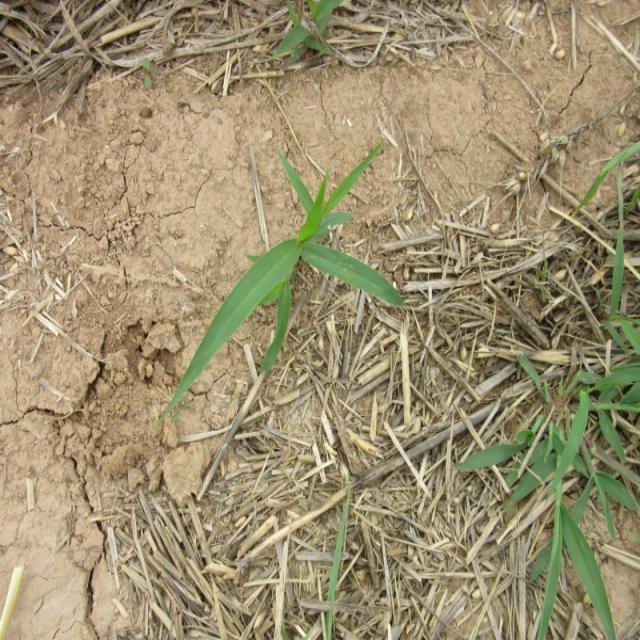bg: (166, 138, 403, 397)
